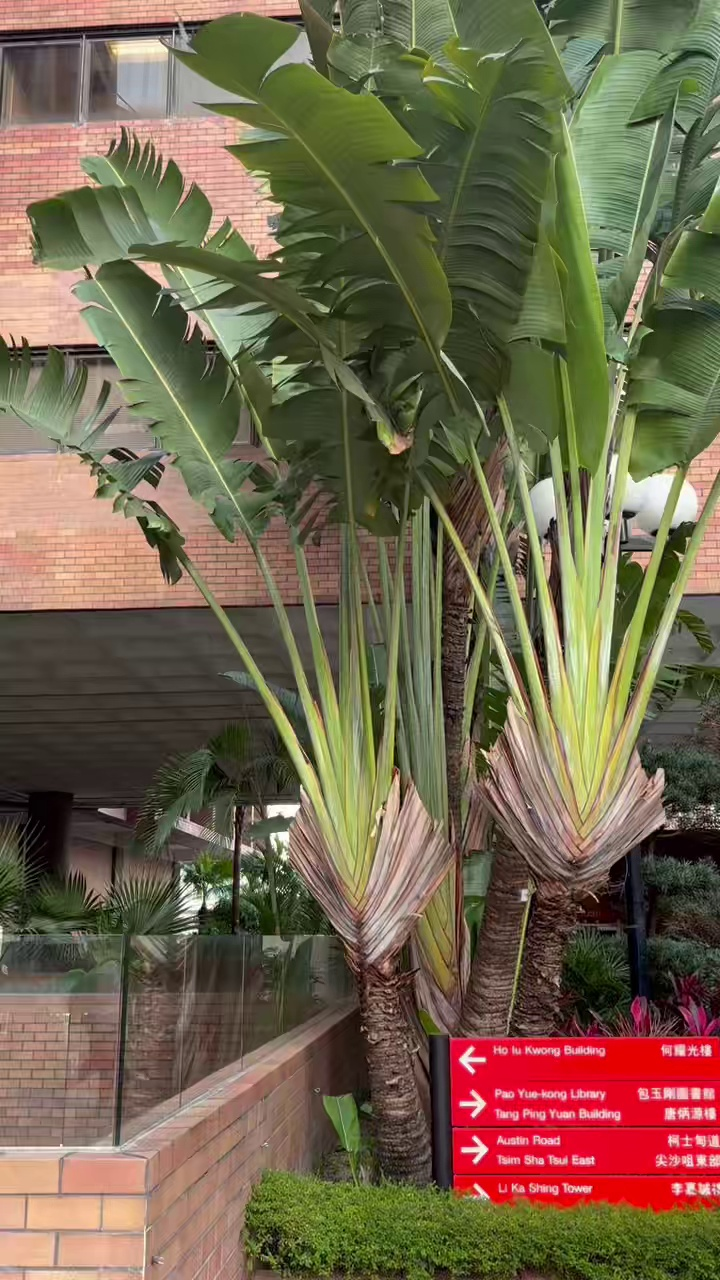Travellers-tree: (29, 0, 719, 1180)
